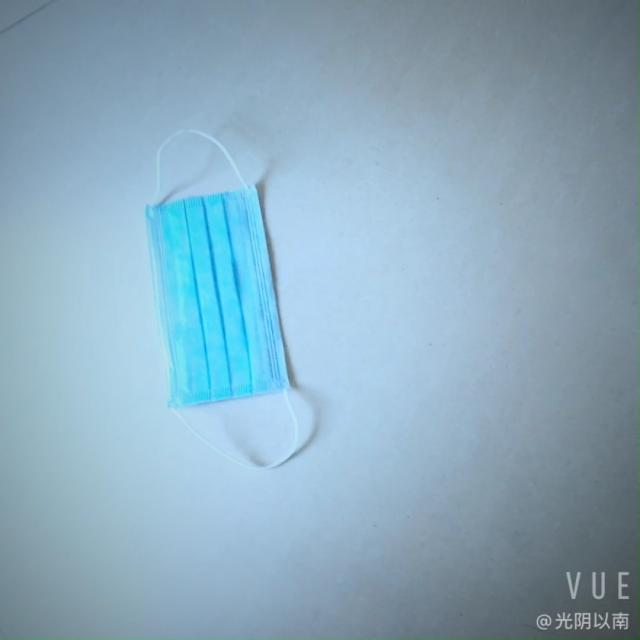non-organic waste: (135, 180, 318, 421)
